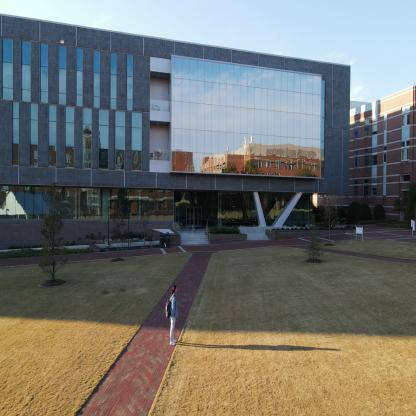EB-1: (356, 72, 416, 244)
Fitts- Woolard: (2, 11, 354, 289)
